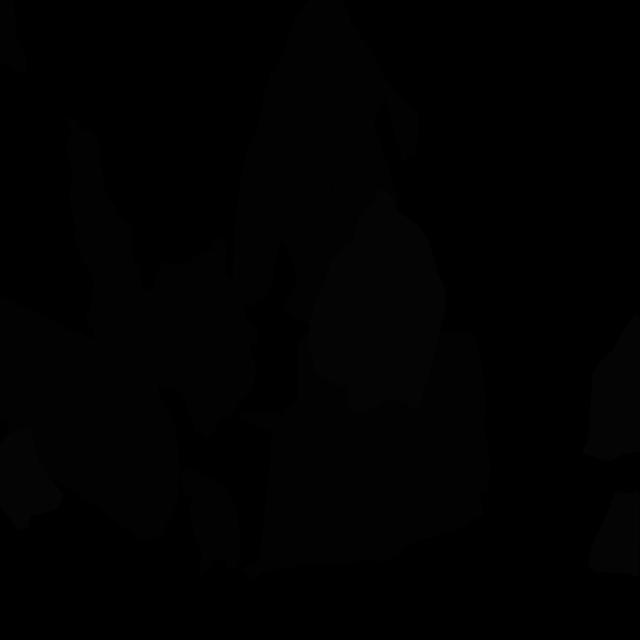cardboard: (66, 116, 258, 442), (232, 0, 420, 314), (0, 295, 180, 543), (239, 399, 484, 581), (296, 329, 490, 506), (290, 151, 400, 326), (180, 468, 242, 577), (0, 0, 27, 74)
soft_plastic: (306, 188, 446, 413), (582, 314, 640, 461), (0, 428, 64, 531), (588, 490, 640, 577)
